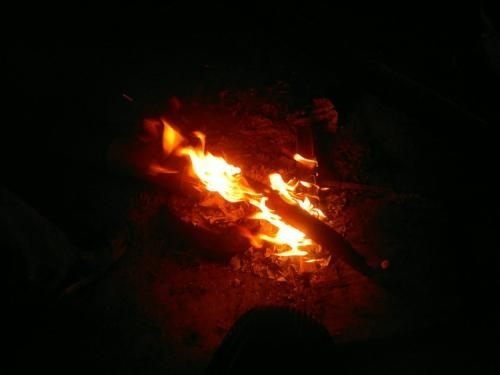fire: (159, 121, 259, 199), (262, 155, 325, 234)
